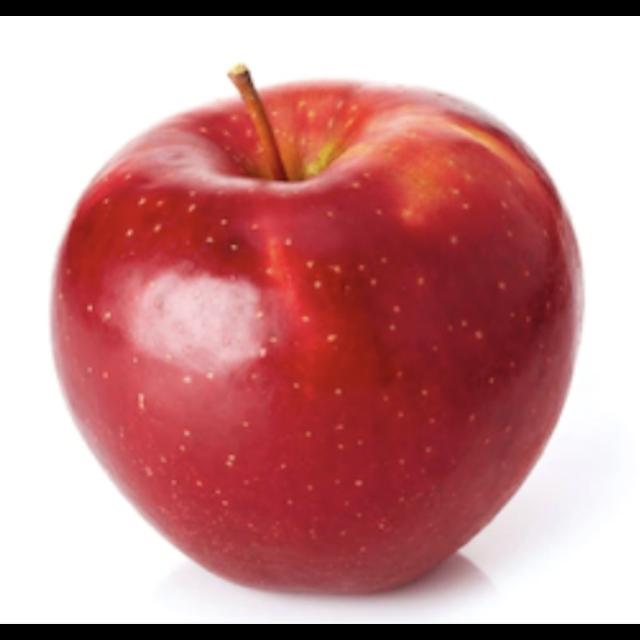Apel Segar: (38, 54, 594, 600)
